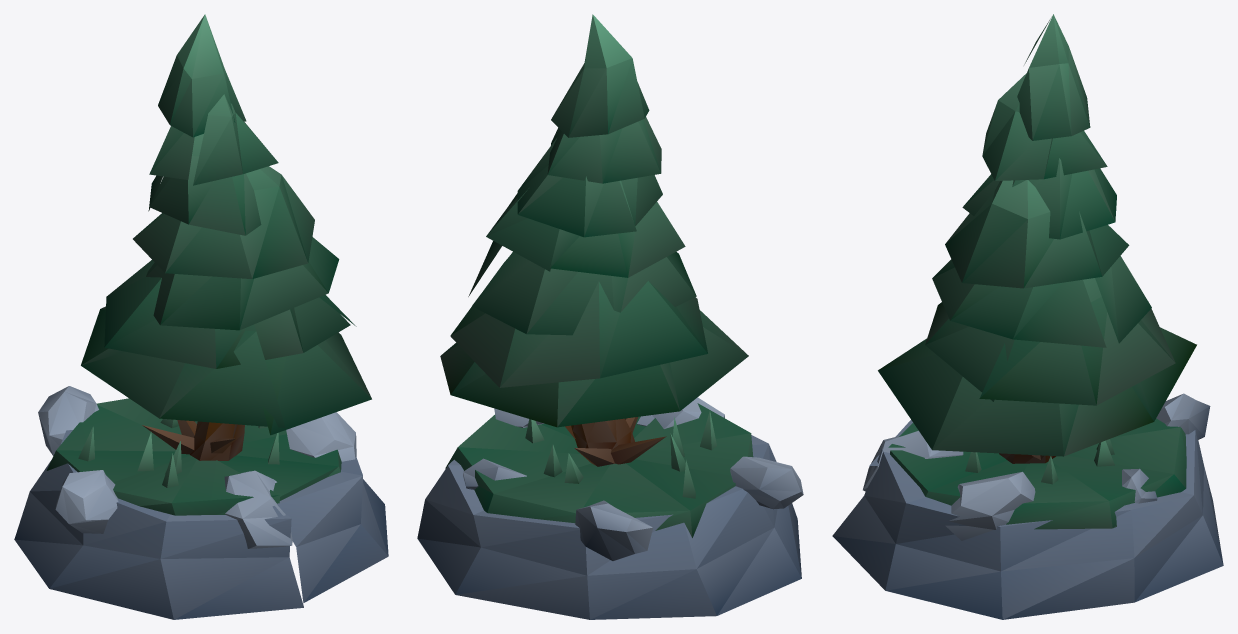
File: pohon_pine_emerald_221015.glb
3 views of the same model, side by side, from view 1: azimuth 30°, elevation 25°; view 2: azimuth 150°, elevation 25°; view 3: azimuth 270°, elevation 25° (orthographic). The views are drawn at different scales.
Visible parts, largest first — view 1: Dedaunan_Pinus, Pulau_Batu_Tepi_Sungai, Batang_Dan_Akar; view 2: Dedaunan_Pinus, Pulau_Batu_Tepi_Sungai, Batang_Dan_Akar; view 3: Dedaunan_Pinus, Pulau_Batu_Tepi_Sungai.
Part boxes in pixels (box(x1,y1,x2,y2)): Dedaunan_Pinus: box(81, 14, 371, 435); Pulau_Batu_Tepi_Sungai: box(14, 386, 388, 619); Batang_Dan_Akar: box(142, 420, 244, 460); Dedaunan_Pinus: box(440, 14, 748, 427); Pulau_Batu_Tepi_Sungai: box(417, 397, 803, 619); Batang_Dan_Akar: box(565, 417, 666, 466); Dedaunan_Pinus: box(878, 14, 1196, 456); Pulau_Batu_Tepi_Sungai: box(832, 393, 1223, 619).
Bounding box in the file's own units: 5.48 × 8.12 × 5.38.
